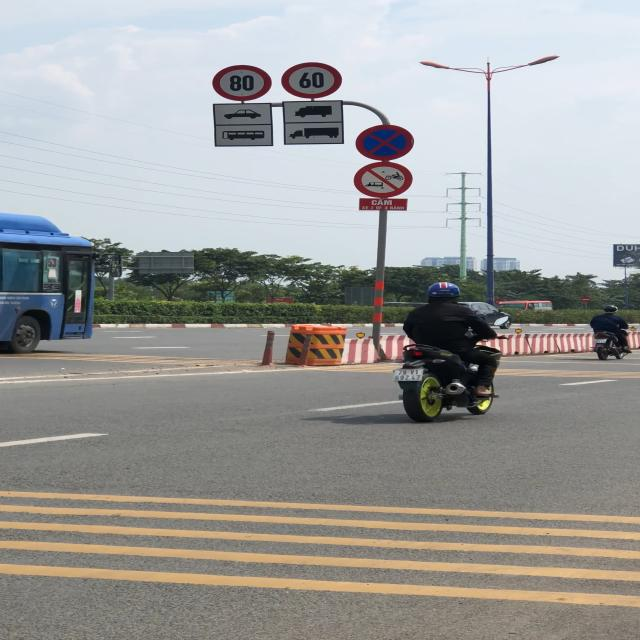Bien bao cam dung xe va do xe: (353, 122, 416, 162)
Bien bao toc do toi da cho phep: (211, 62, 273, 102), (281, 60, 343, 100)
